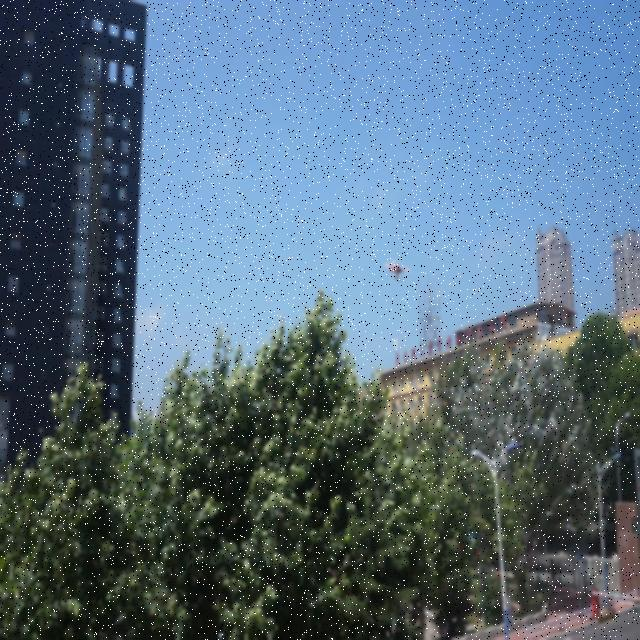UAV: (384, 261, 410, 282)
